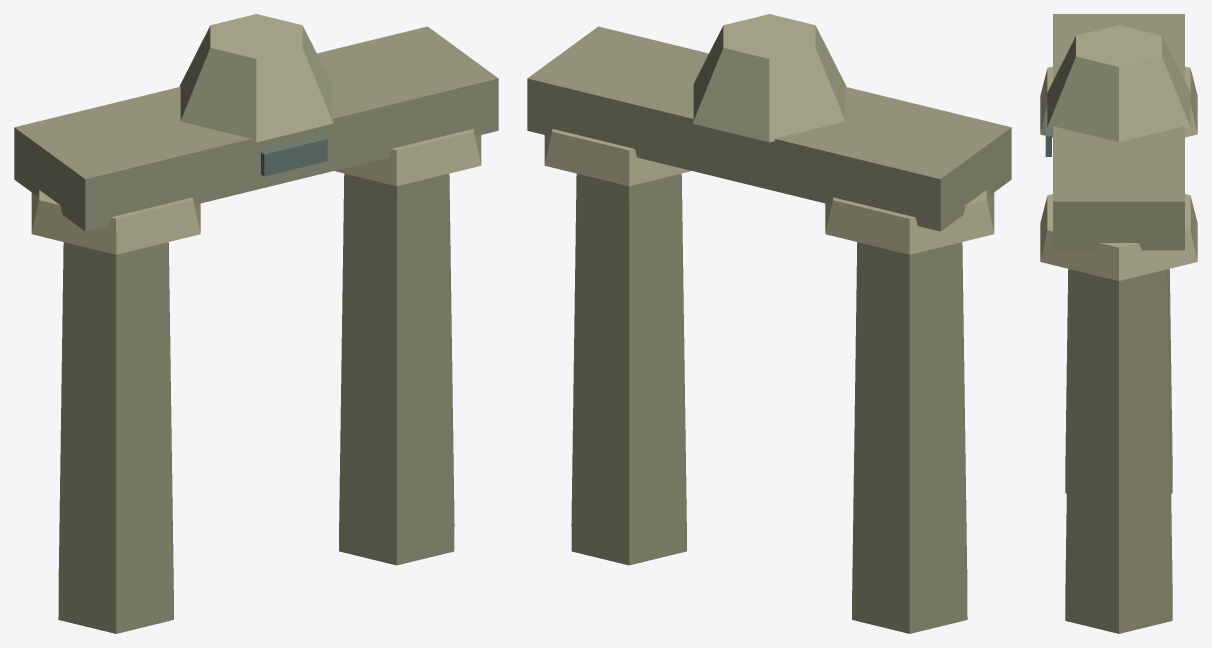
Rendered from map-exclusive-v3__ruins_01.glb.
The picture shows the model from 3 angles, left to right: view 1: azimuth 30°, elevation 25°; view 2: azimuth 150°, elevation 25°; view 3: azimuth 270°, elevation 25°; orthographic projection. The views are drawn at different scales.
Parts seen in each view (by area): view 1: ruins_01; view 2: ruins_01; view 3: ruins_01.
Part boxes in pixels (x1,y1,x2,y2): ruins_01: (14, 14, 498, 633); ruins_01: (527, 14, 1011, 633); ruins_01: (1040, 14, 1197, 633).
Size of the model in its own units: 2.34 by 2.66 by 0.7621.
